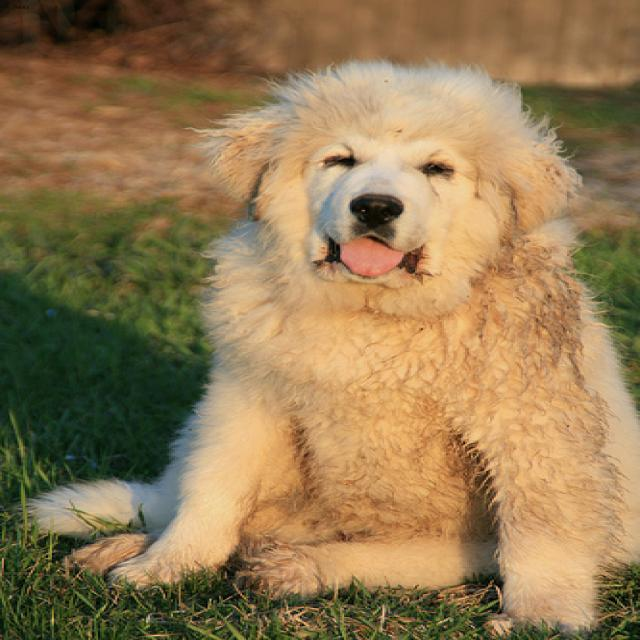dog-great_pyrenees: (10, 50, 636, 637)
